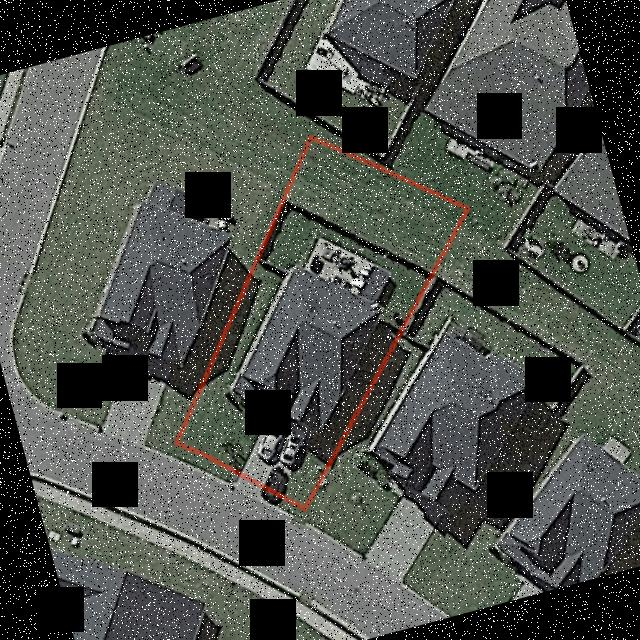Driveway: (243, 417, 287, 483)
Extra Driveway: (236, 477, 261, 499)
Extra Lawn: (170, 446, 240, 484), (258, 490, 304, 518)
House: (227, 259, 386, 432)
